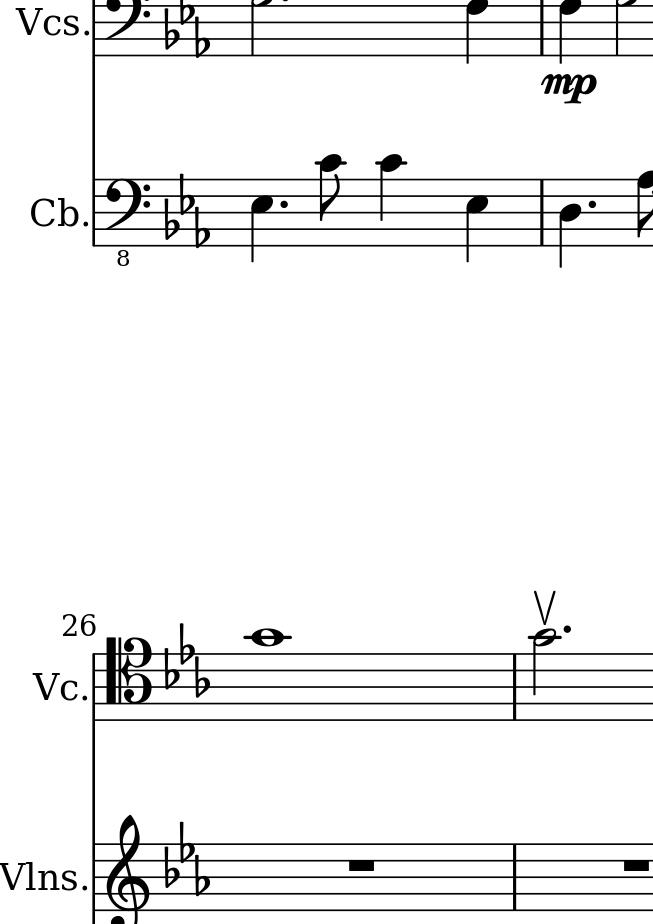1_10: (251, 627, 284, 723)
2: (61, 613, 80, 638)
2_10: (530, 629, 557, 722)
4_10: (377, 153, 404, 249)
4_4: (558, 177, 582, 268)
4_5: (248, 179, 275, 263), (464, 177, 490, 264)
6: (79, 612, 97, 638)
8_10: (318, 154, 346, 248)
Cb: (31, 194, 80, 228)
Fclef: (101, 1, 151, 58)
Gclef: (105, 809, 150, 924)
Lower_Fclef: (104, 175, 149, 265)
Rests1: (344, 857, 378, 873), (620, 857, 650, 872)
Single_barline: (88, 839, 102, 922), (534, 180, 550, 245), (507, 653, 522, 719), (507, 846, 522, 908), (87, 178, 100, 247), (89, 654, 101, 722)
Tensor_Cclef: (103, 636, 150, 720)
Tremolo_bar: (529, 585, 558, 625)
Vln: (1, 861, 58, 891)
dot: (556, 614, 573, 634), (585, 196, 599, 211), (276, 197, 290, 211), (561, 623, 572, 636)
mp: (537, 70, 600, 106)
